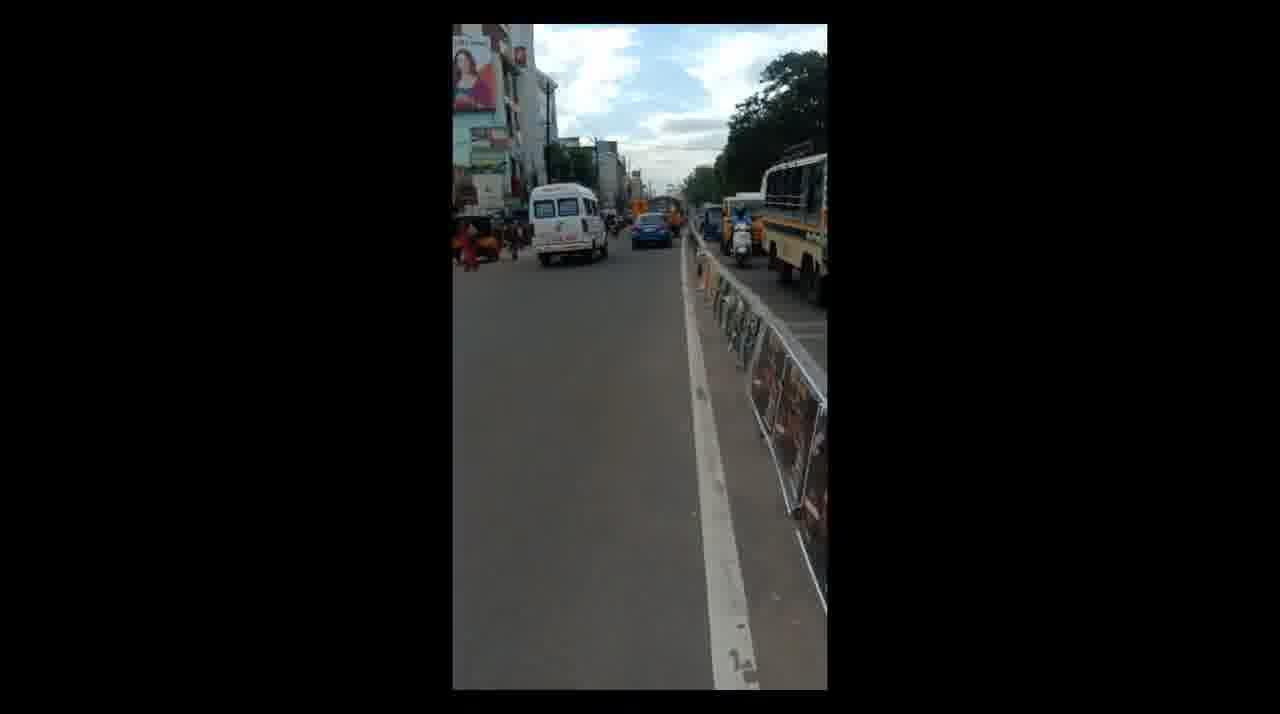AMBULANCE: (526, 167, 629, 289)
